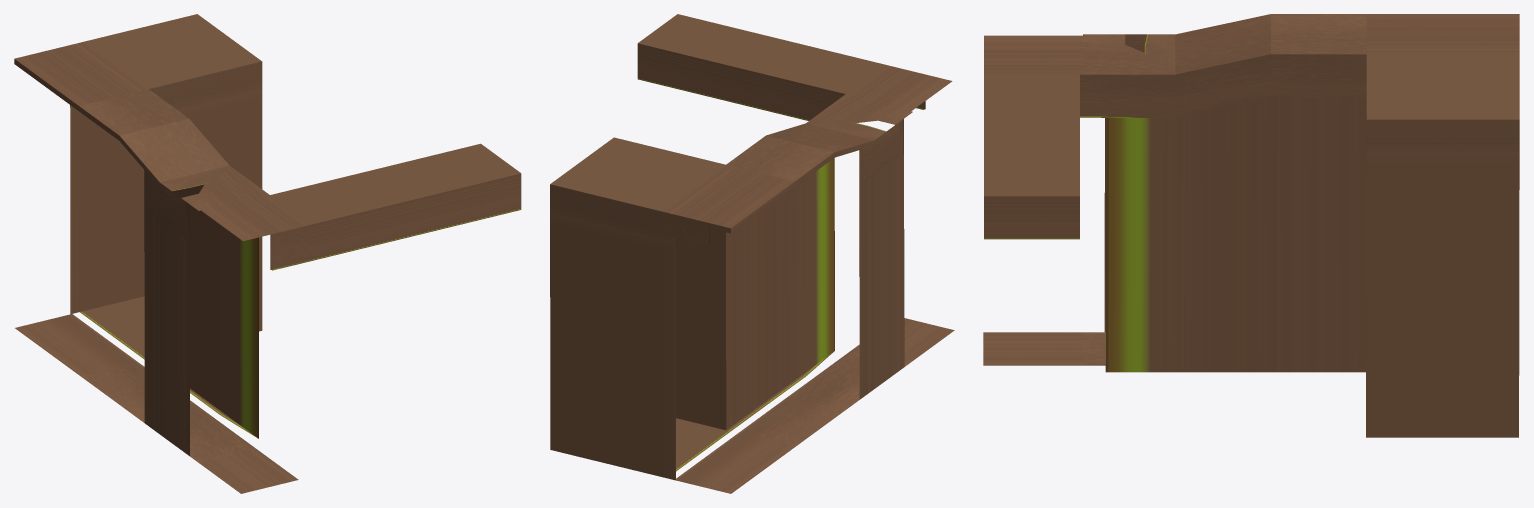
File: leftTerrain.fbx
3 renders of one model, left to right at view 1: azimuth 30°, elevation 25°; view 2: azimuth 150°, elevation 25°; view 3: azimuth 270°, elevation 25°, orthographic. The views are drawn at different scales.
Visible parts, largest first — view 1: Cube; view 2: Cube; view 3: Cube.
Part boxes in pixels (x1,y1,x2,y2): Cube: (14, 14, 521, 493); Cube: (550, 14, 954, 493); Cube: (983, 14, 1519, 437).
Bounding box in the file's own units: 15.99 × 14.67 × 22.4.
